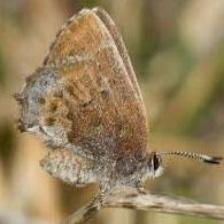butterfly: (16, 7, 163, 194)
